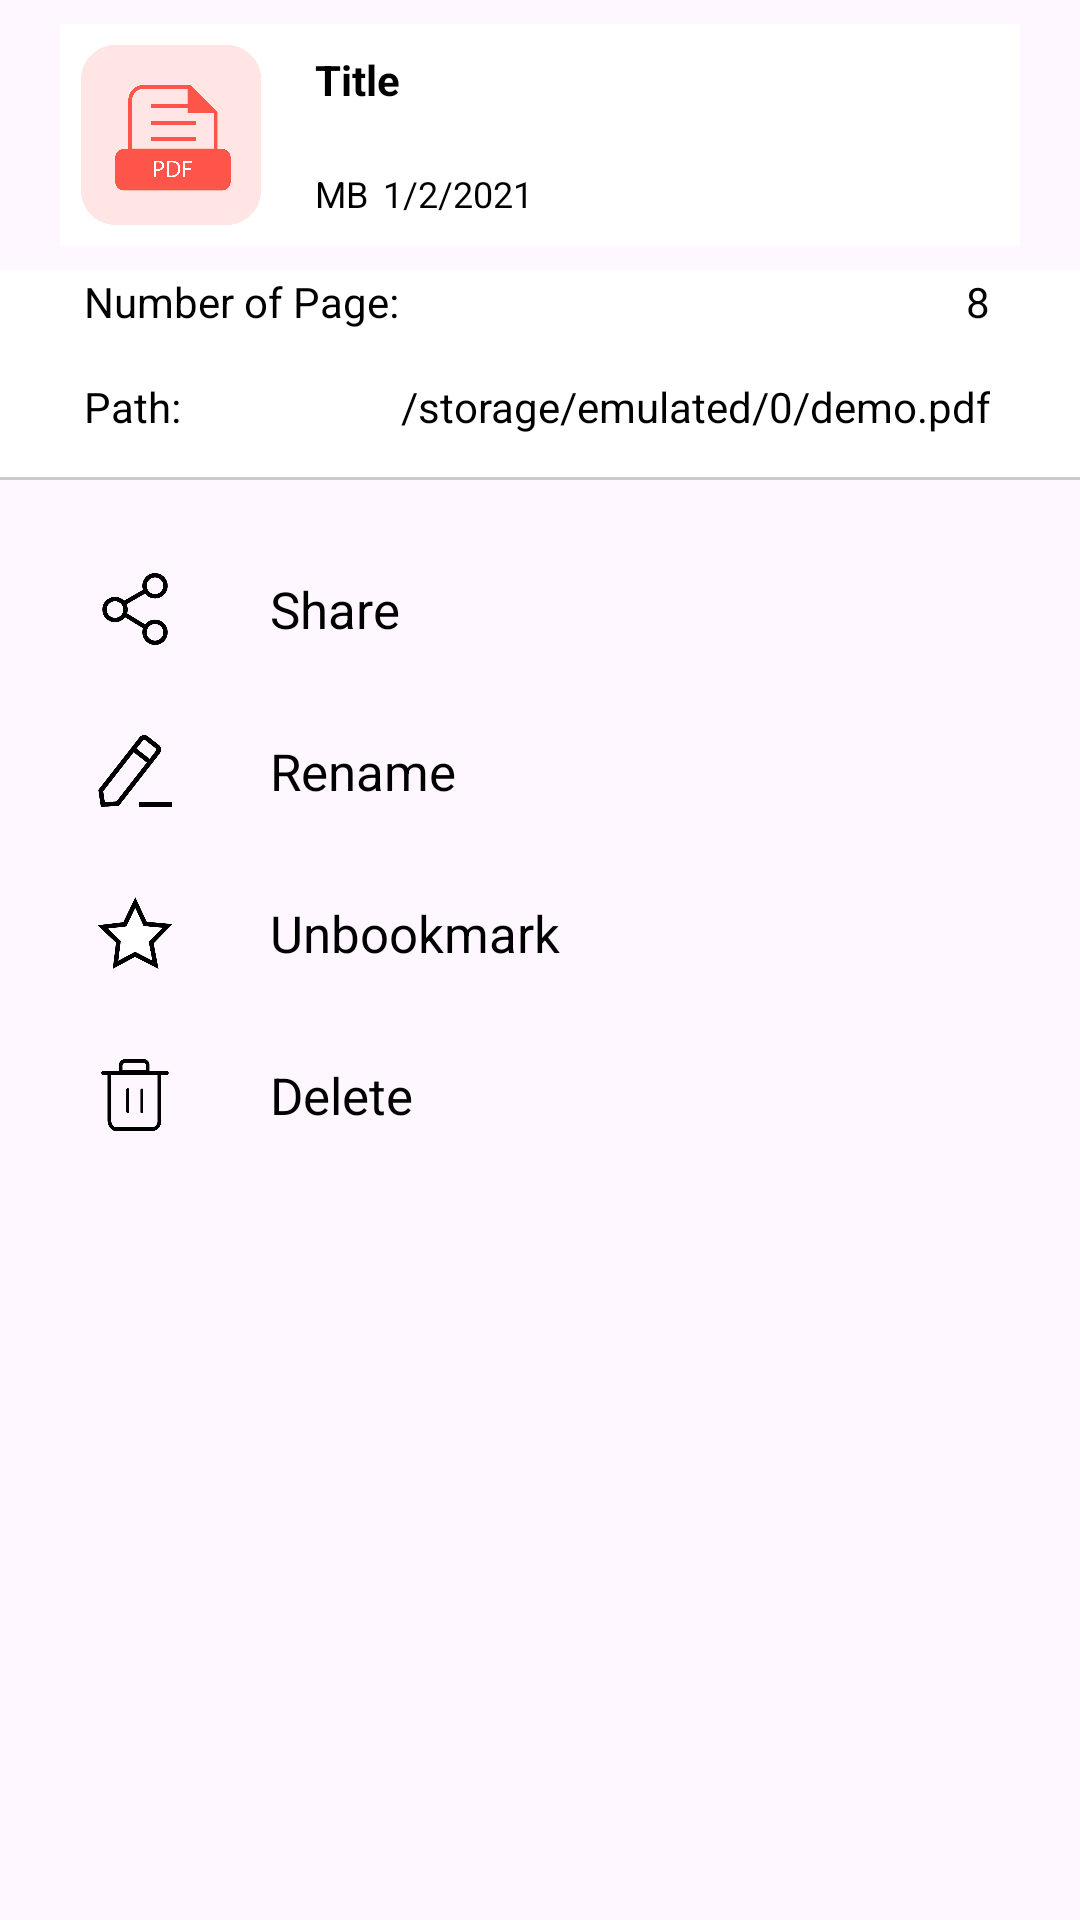

Icons on this 1080 × 1920 Android screen, each with its box as (x1,y1,x2,y2):
editool: (98,735,172,807)
star: (98,897,172,969)
trash: (101,1059,169,1131)
